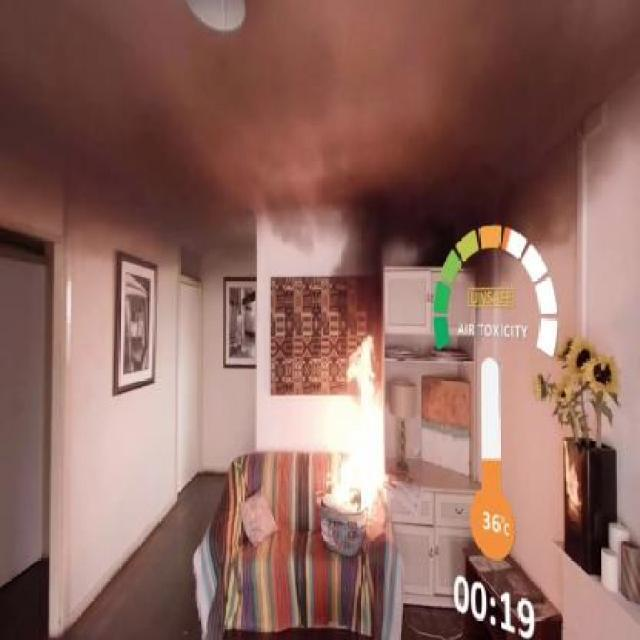fire: (298, 284, 393, 558)
smoke: (269, 106, 442, 268)
